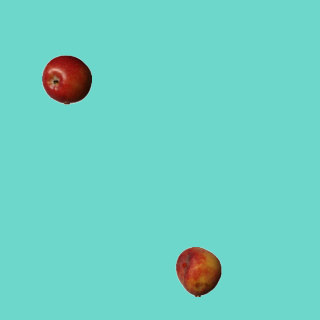Apple Braeburn: (41, 54, 91, 104)
Peach: (173, 246, 223, 296)
